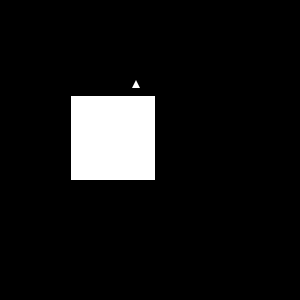circle: (71, 96, 155, 180)
triangle: (132, 80, 140, 88)
